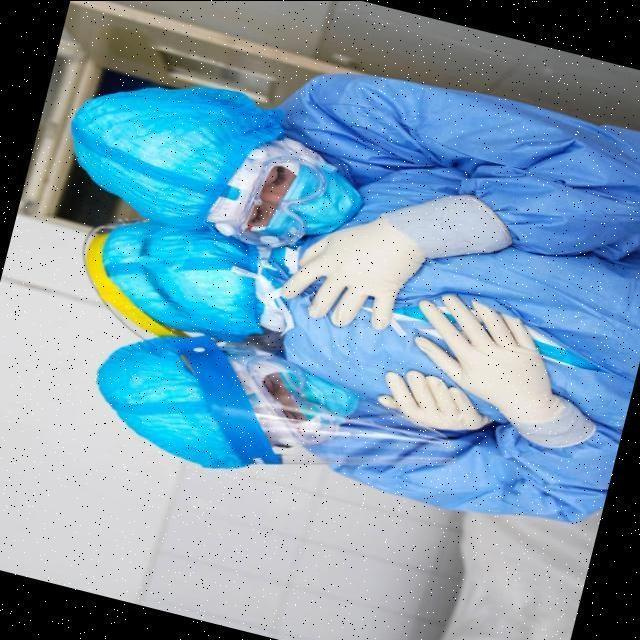apron: (258, 234, 420, 333), (417, 287, 562, 382), (364, 364, 467, 452)
